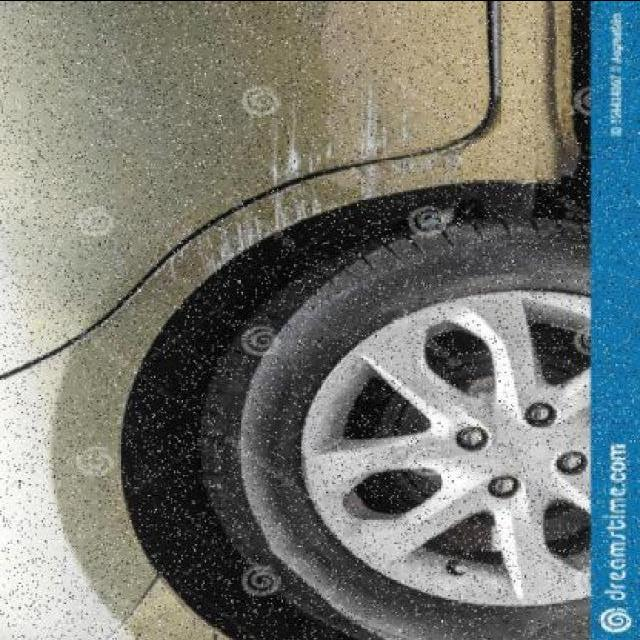doorouter-dent: (0, 0, 500, 266)
fender-dent: (6, 156, 482, 637)
